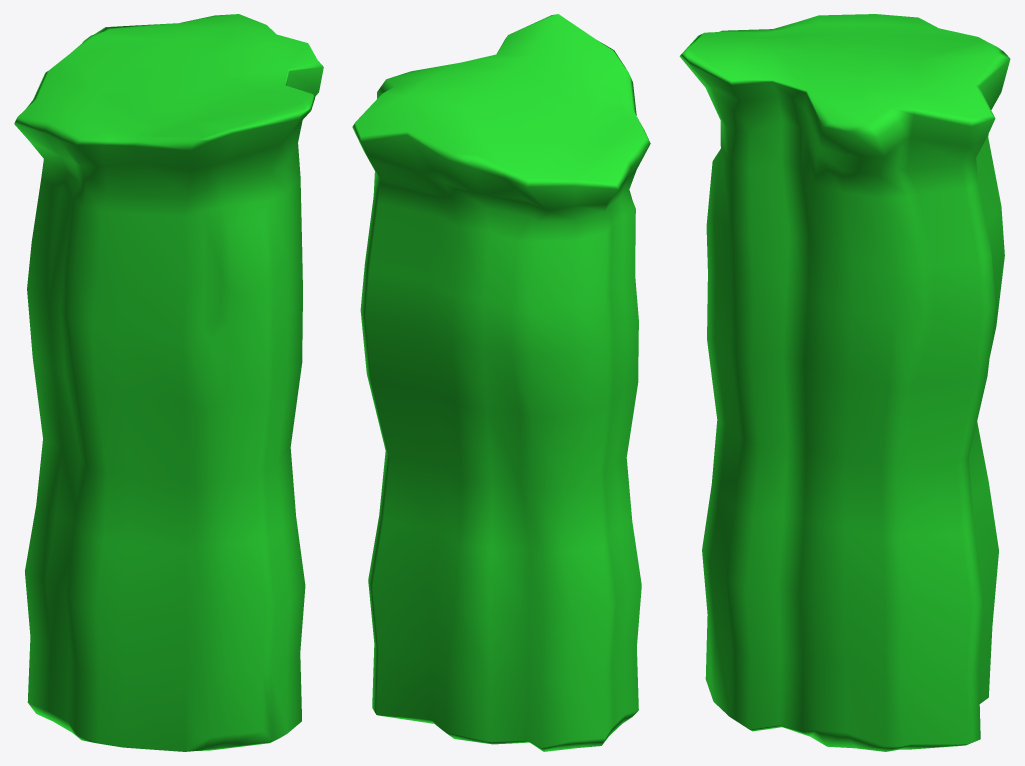
The model's file is long_rock_01.fbx.
3 views of the same model, side by side, from view 1: azimuth 30°, elevation 25°; view 2: azimuth 150°, elevation 25°; view 3: azimuth 270°, elevation 25° (orthographic). The views are drawn at different scales.
Parts seen in each view (by area): view 1: rock_long_01; view 2: rock_long_01; view 3: rock_long_01.
Boxes of the visible parts, x1,y1,x2,y2 form: rock_long_01: (14, 14, 323, 751); rock_long_01: (352, 14, 650, 751); rock_long_01: (679, 14, 1010, 751).
Size of the model in its own units: 1766 by 4018 by 1793.
